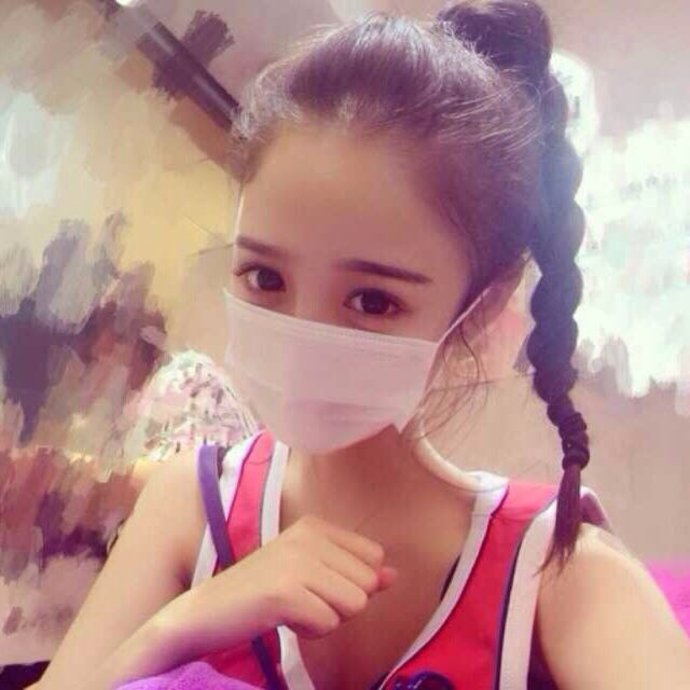face_mask: (209, 134, 455, 460)
